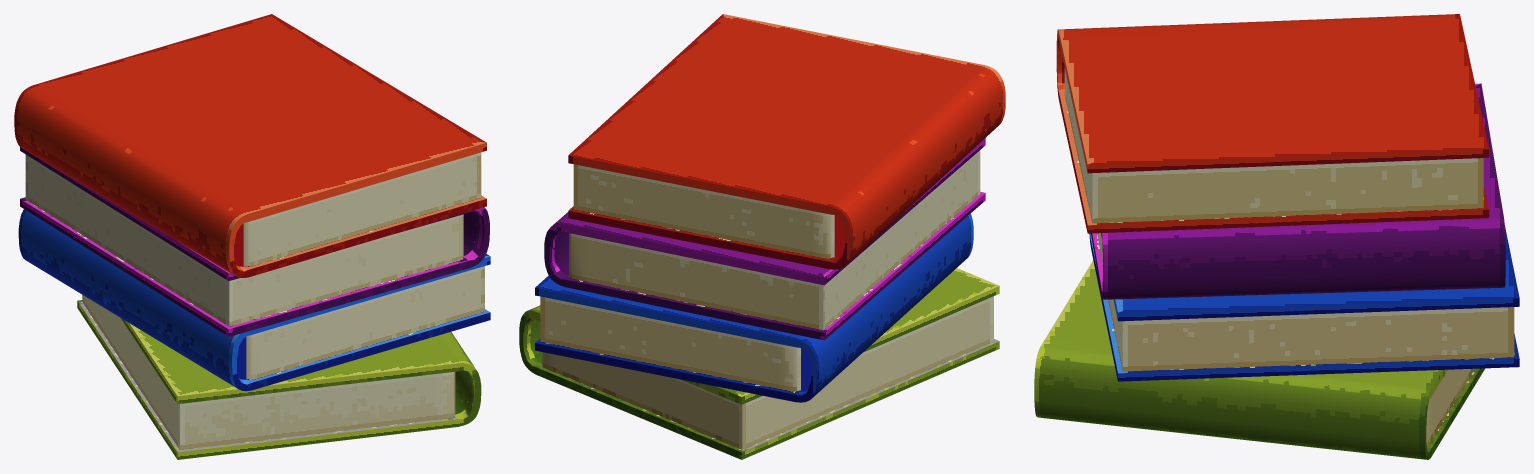
The model's file is books_stack.glb.
3 views of the same model, side by side, from view 1: azimuth 30°, elevation 25°; view 2: azimuth 150°, elevation 25°; view 3: azimuth 270°, elevation 25° (orthographic). The views are drawn at different scales.
Visible parts, largest first — view 1: mesh; view 2: mesh; view 3: mesh.
Part boxes in pixels (x1,y1,x2,y2): mesh: (14,14,490,459); mesh: (519,14,1005,459); mesh: (1034,14,1519,459).
Size of the model in its own units: 0.2155 by 0.15 by 0.2383.
Materials: 1 (1 with a texture image).
